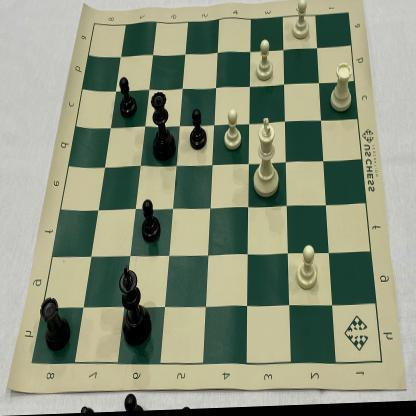black-king: (118, 261, 153, 351)
black-pawn: (138, 197, 163, 245), (186, 106, 208, 154), (117, 74, 139, 120)
black-queen: (148, 90, 178, 166)
black-rook: (39, 295, 71, 356)
white-king: (250, 116, 283, 201)
white-pawn: (295, 243, 321, 297), (289, 0, 314, 44), (253, 39, 276, 86), (222, 108, 244, 155)
white-rook: (328, 63, 356, 116)
